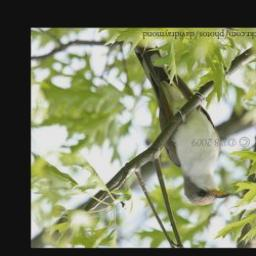Cuckoo: (135, 41, 231, 208)
